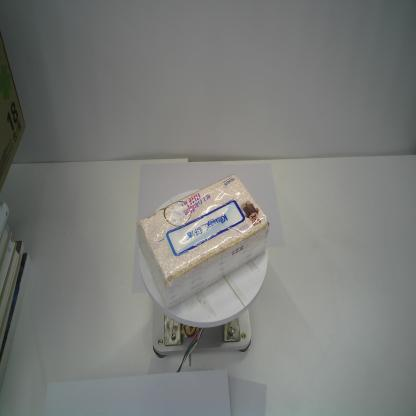Tissue: (136, 172, 270, 310)
